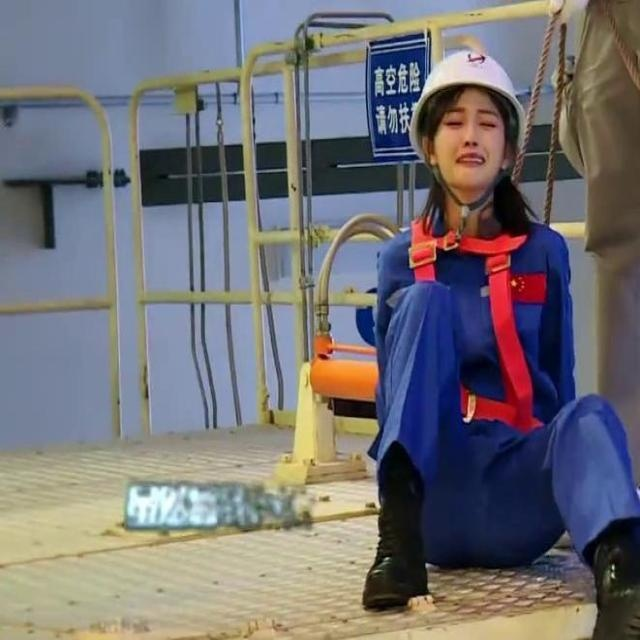Arnes_seguridad: (399, 203, 561, 438)
